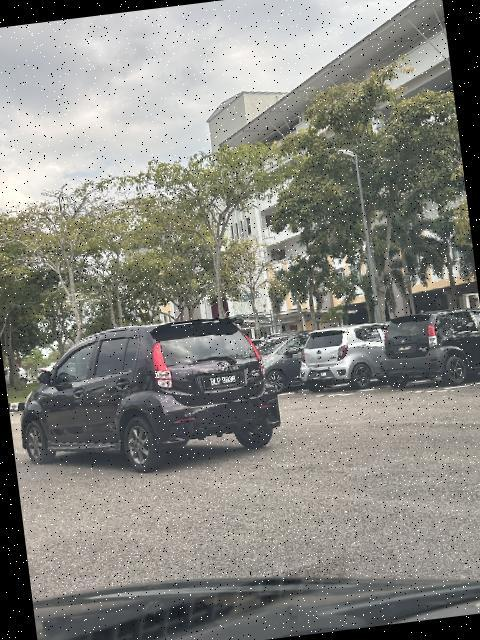BLP9838: (201, 368, 248, 392)
License_Plate: (201, 368, 248, 392), (394, 342, 418, 355), (309, 369, 333, 381)
car: (7, 305, 292, 486), (378, 304, 480, 392), (297, 320, 409, 389)
